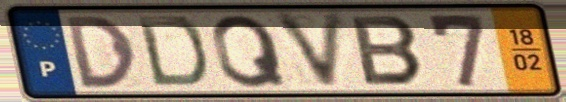7: (423, 12, 488, 90)
B: (347, 14, 428, 89)
D: (61, 14, 140, 91), (133, 13, 210, 90)
Q: (208, 12, 291, 91)
V: (269, 8, 351, 94)
